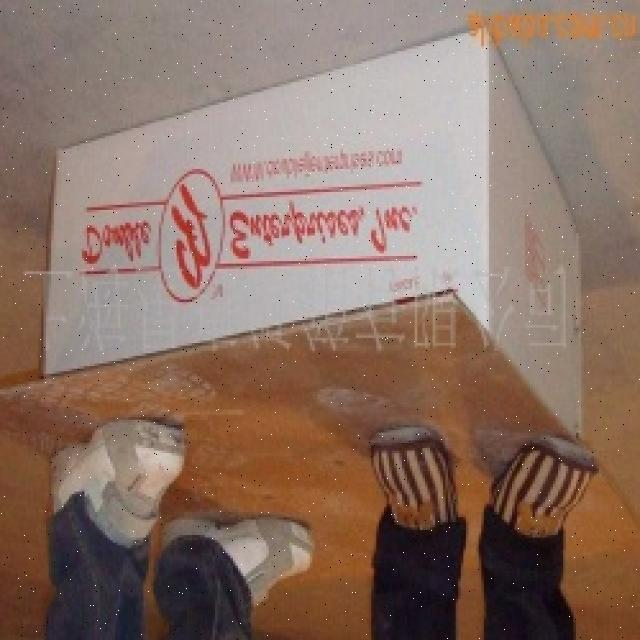box: (19, 31, 624, 516)
